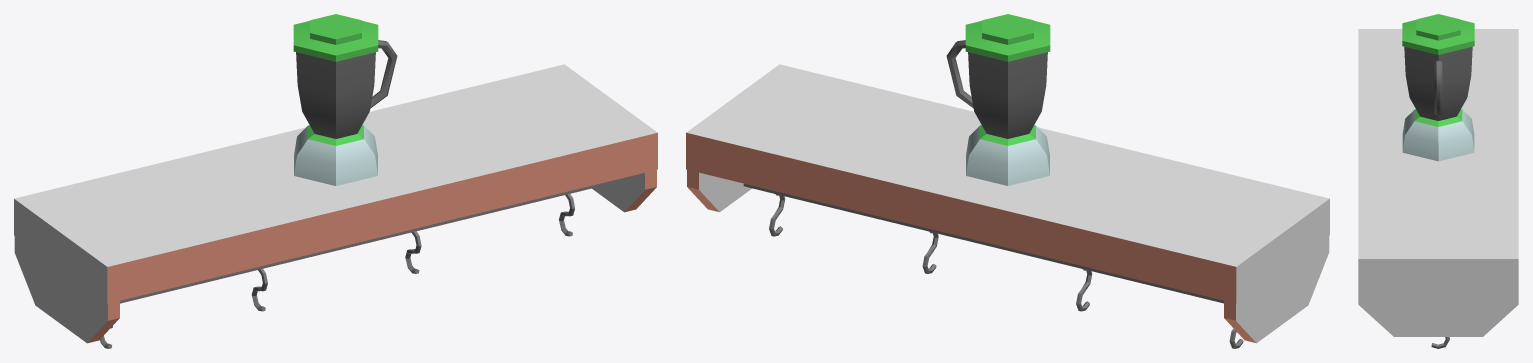
Rendered from Kitchen_Shelf.fbx.
3 renders of one model, left to right at view 1: azimuth 30°, elevation 25°; view 2: azimuth 150°, elevation 25°; view 3: azimuth 270°, elevation 25°, orthographic. The views are drawn at different scales.
Parts seen in each view (by area): view 1: Shelf3, Jug3; view 2: Shelf3, Jug3; view 3: Shelf3, Jug3.
Part boxes in pixels (bbox=[...]): Shelf3: bbox=[14, 64, 657, 348]; Jug3: bbox=[293, 14, 397, 185]; Shelf3: bbox=[686, 64, 1329, 348]; Jug3: bbox=[946, 14, 1050, 185]; Shelf3: bbox=[1358, 29, 1518, 348]; Jug3: bbox=[1402, 14, 1474, 161].
Size of the model in its own units: 4.83 by 2.22 by 1.42.
